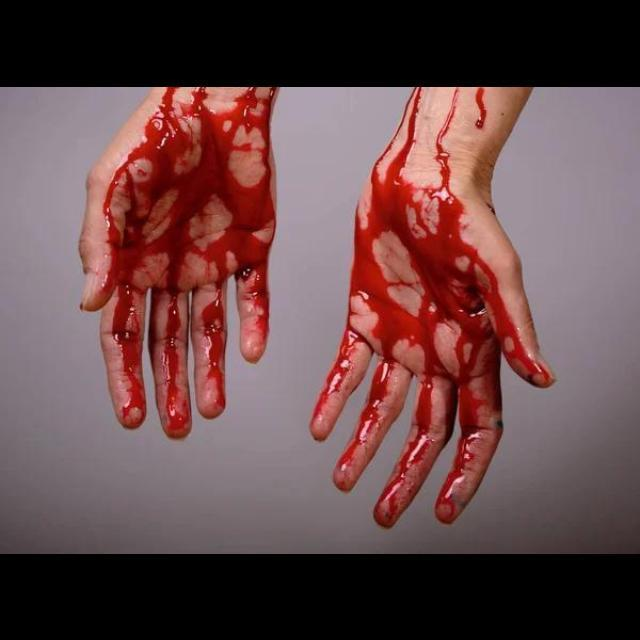blood: (314, 87, 556, 527), (101, 87, 276, 439), (477, 86, 487, 126)
